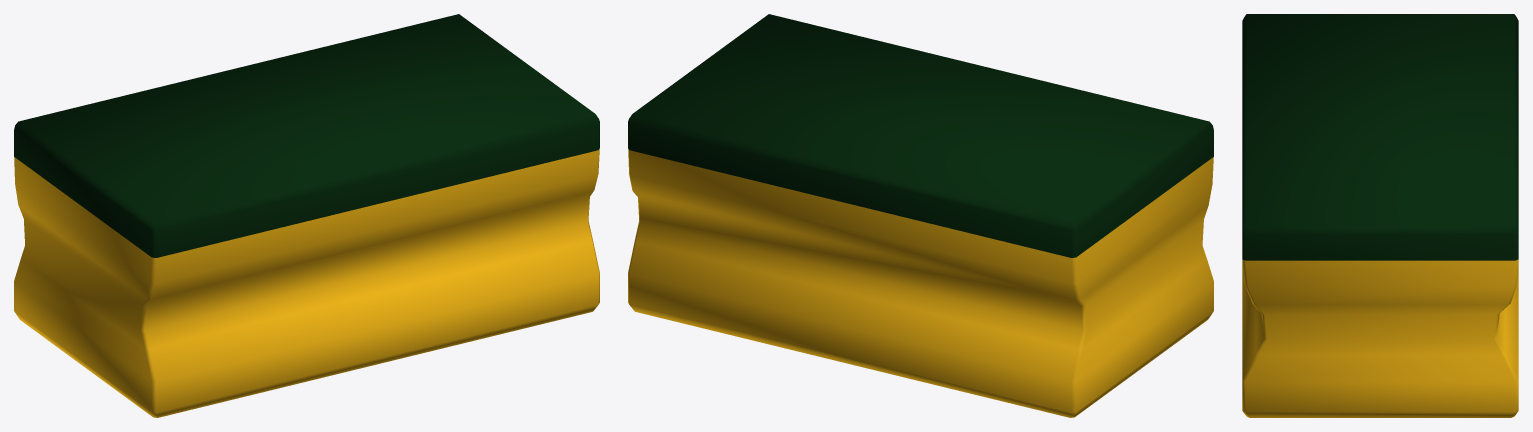
File: Sponge.FBX
The picture shows the model from 3 angles, left to right: view 1: azimuth 30°, elevation 25°; view 2: azimuth 150°, elevation 25°; view 3: azimuth 270°, elevation 25°; orthographic projection. The views are drawn at different scales.
Visible parts, largest first — view 1: Box001; view 2: Box001; view 3: Box001.
Boxes of the visible parts, x1,y1,x2,y2 form: Box001: (14,14,599,417); Box001: (628,14,1213,417); Box001: (1242,14,1518,417).
Size of the model in its own units: 3.51 by 1.48 by 1.91.
